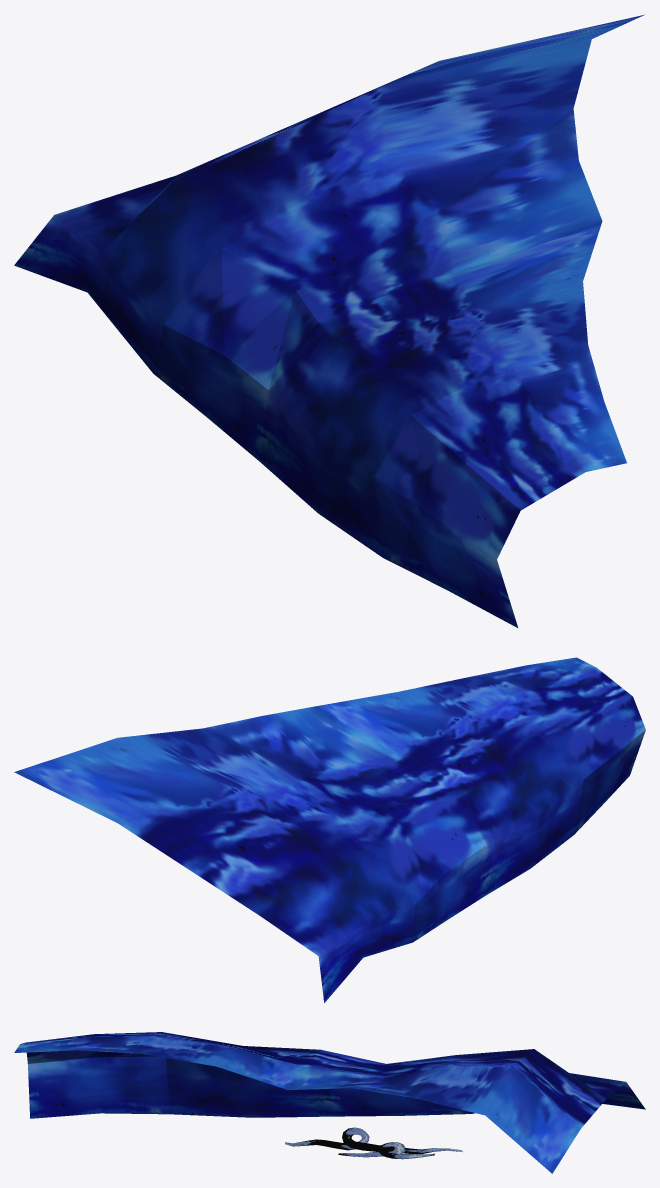
File: menu_building_fish.fbx
3 renders of one model, top to bottom at view 1: azimuth 30°, elevation 25°; view 2: azimuth 150°, elevation 25°; view 3: azimuth 270°, elevation 25°, orthographic. The views are drawn at different scales.
Parts seen in each view (by area): view 1: menu_building_fish-0; view 2: menu_building_fish-0; view 3: menu_building_fish-0.
Part boxes in pixels (box(x1,y1,x2,y2)): menu_building_fish-0: box(14, 14, 644, 627); menu_building_fish-0: box(14, 657, 645, 1002); menu_building_fish-0: box(14, 1032, 645, 1173).
Size of the model in its own units: 23.12 by 8.67 by 34.78.
